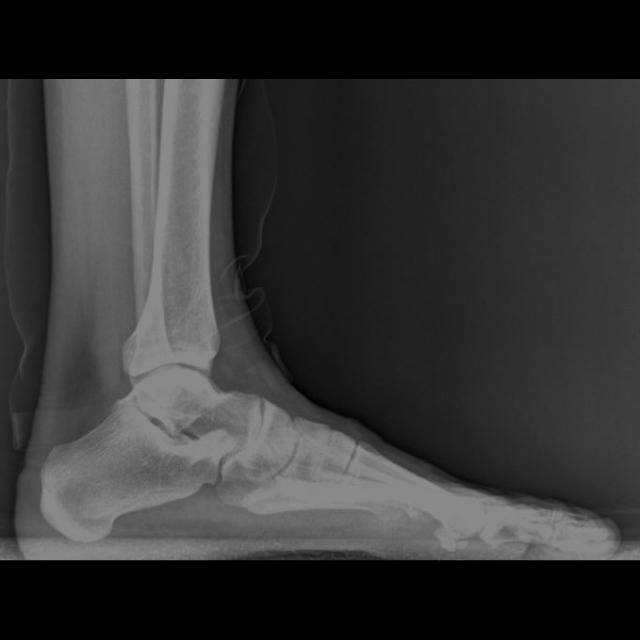a: (42, 397, 236, 541)
b: (230, 401, 300, 484)
c: (339, 439, 489, 539)
